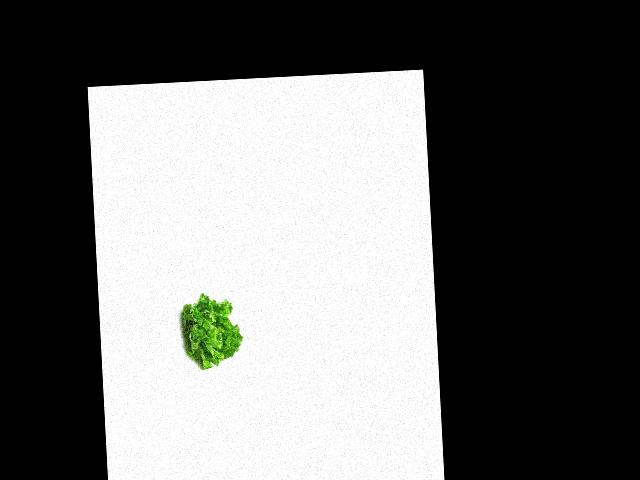lettuce: (178, 292, 244, 369)
